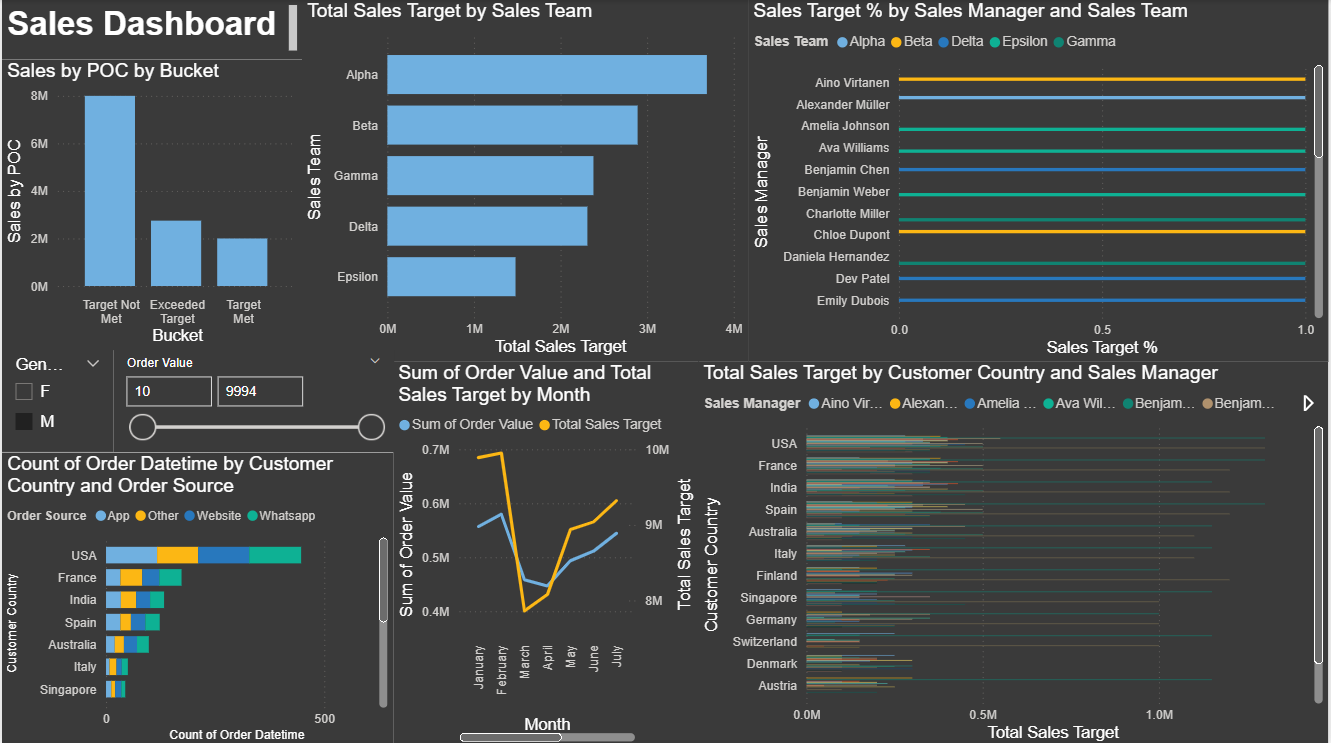

The page's visual inventory and layout, read from the dashboard file:
{"tool":"powerbi","page":{"name":"Page 1","canvas":[1280,720],"ordinal":0},"visuals":[{"type":"clusteredColumnChart","fields":{"Category":["Sales Targets.Bucket"],"Y":["Sales Targets.Sales by POC"]},"box":[0,57.6,289.5,279.9],"z":0},{"type":"textbox","box":[290,58,280,280],"z":1000},{"type":"textbox","box":[0,0,289.5,57.6],"z":2000},{"type":"clusteredBarChart","fields":{"Category":["Sales Targets.Sales Team"],"Y":["Sales Targets.Total Sales Target"]},"box":[289.5,0,430.9,348.5],"z":3000},{"type":"clusteredBarChart","fields":{"Y":["Sales Targets.Sales Target %"],"Category":["Sales Targets.Sales Manager"],"Series":["Sales Targets.Sales Team"]},"box":[720.4,0,559.9,348.5],"z":4000},{"type":"slicer","fields":{"Values":["Orders.Order Value"]},"box":[107,337.6,270.3,98.8],"z":5000},{"type":"clusteredBarChart","fields":{"Category":["Customers.Customer Country"],"Y":["Sales Targets.Total Sales Target"],"Series":["Sales Targets.Sales Manager"]},"box":[672.4,348.5,607.9,371.9],"z":6000},{"type":"lineChart","fields":{"Category":["Orders.Order Datetime.Variation.Date Hierarchy.Month"],"Y":["Orders.Order Value"],"Y2":["Sales Targets.Total Sales Target"]},"box":[377.4,348.5,295,371.9],"z":7000},{"type":"slicer","fields":{"Values":["Customers.Gender"]},"box":[0,337.6,107,98.8],"z":8000},{"type":"barChart","fields":{"Category":["Customers.Customer Country"],"Series":["Orders.Order Source"],"Y":["Orders.Order Datetime"]},"box":[0,436.4,377.4,284],"z":9000}]}

Visuals, with their boxes in screenshot pixels (x1, y1, x2, y2), scaled from the page's 1280x720 canvas onto the 1331x743 screenshot:
clusteredColumnChart - Sales Targets.Bucket x Sales Targets.Sales by POC: [x1=0, y1=59, x2=301, y2=348]
textbox: [x1=302, y1=60, x2=593, y2=349]
textbox: [x1=0, y1=0, x2=301, y2=59]
clusteredBarChart - Sales Targets.Sales Team x Sales Targets.Total Sales Target: [x1=301, y1=0, x2=749, y2=360]
clusteredBarChart - Sales Targets.Sales Target % x Sales Targets.Sales Manager: [x1=749, y1=0, x2=1330, y2=360]
slicer - Orders.Order Value: [x1=111, y1=348, x2=392, y2=450]
clusteredBarChart - Customers.Customer Country x Sales Targets.Total Sales Target: [x1=699, y1=360, x2=1330, y2=742]
lineChart - Orders.Order Datetime.Variation.Date Hierarchy.Month x Orders.Order Value: [x1=392, y1=360, x2=699, y2=742]
slicer - Customers.Gender: [x1=0, y1=348, x2=111, y2=450]
barChart - Customers.Customer Country x Orders.Order Source: [x1=0, y1=450, x2=392, y2=742]
